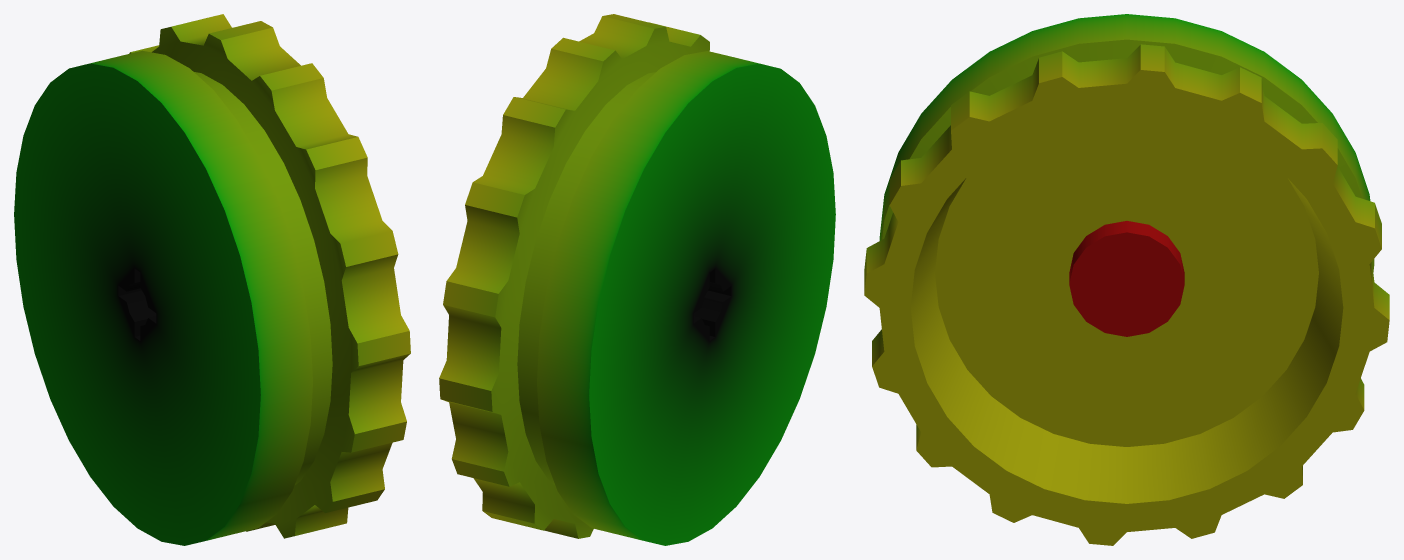
File: SM_SprocketWheel.gltf
3 renders of one model, left to right at view 1: azimuth 30°, elevation 25°; view 2: azimuth 150°, elevation 25°; view 3: azimuth 270°, elevation 25°, orthographic.
Visible parts, largest first — view 1: SM_SprocketWheel; view 2: SM_SprocketWheel; view 3: SM_SprocketWheel.
Boxes of the visible parts, bbox=[...] form: SM_SprocketWheel: bbox=[14, 14, 410, 545]; SM_SprocketWheel: bbox=[439, 14, 835, 545]; SM_SprocketWheel: bbox=[864, 14, 1389, 545].
Bounding box in the file's own units: 0.3 × 0.9554 × 0.9554.
